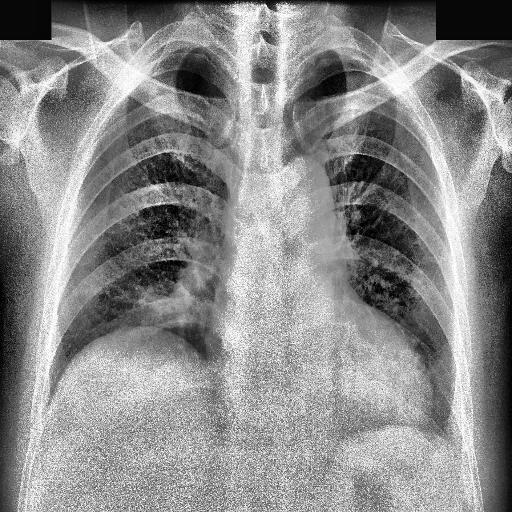0- Aortic enlargement: (274, 146, 334, 248), (278, 154, 336, 258), (277, 155, 335, 246)
3- Cardiomegaly: (199, 306, 434, 432), (207, 318, 433, 431), (205, 325, 434, 430)
